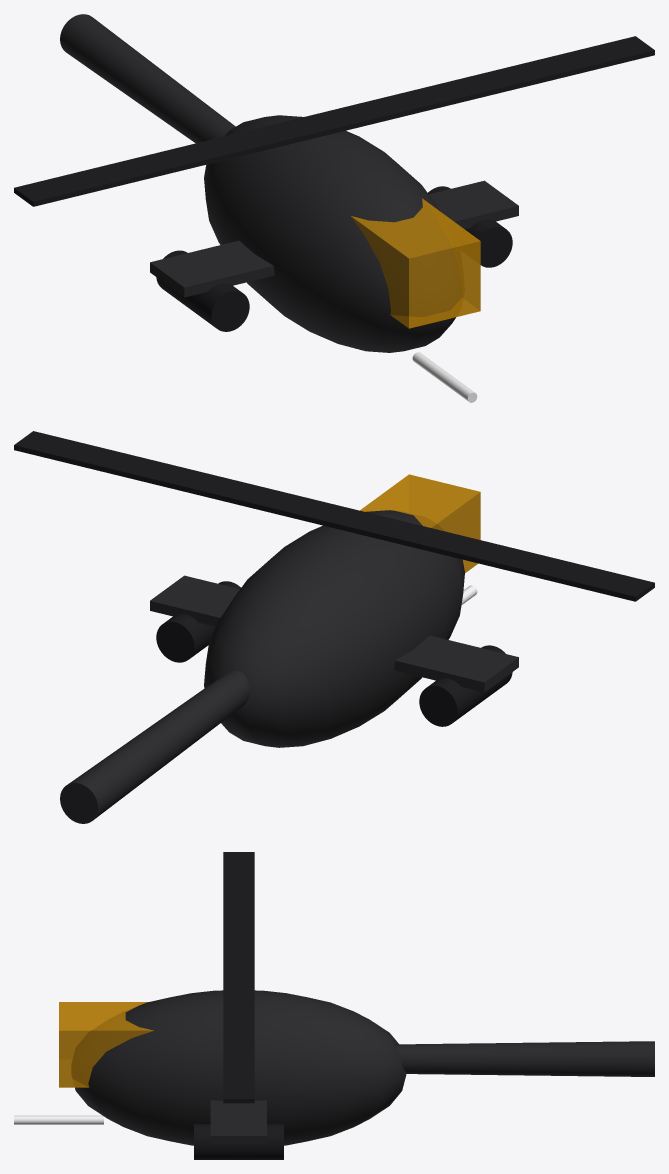
The model's file is apache.glb.
3 renders of one model, top to bottom at view 1: azimuth 30°, elevation 25°; view 2: azimuth 150°, elevation 25°; view 3: azimuth 270°, elevation 25°, orthographic. The views are drawn at different scales.
Size of the model in its own units: 0.9123 by 0.2867 by 1.
